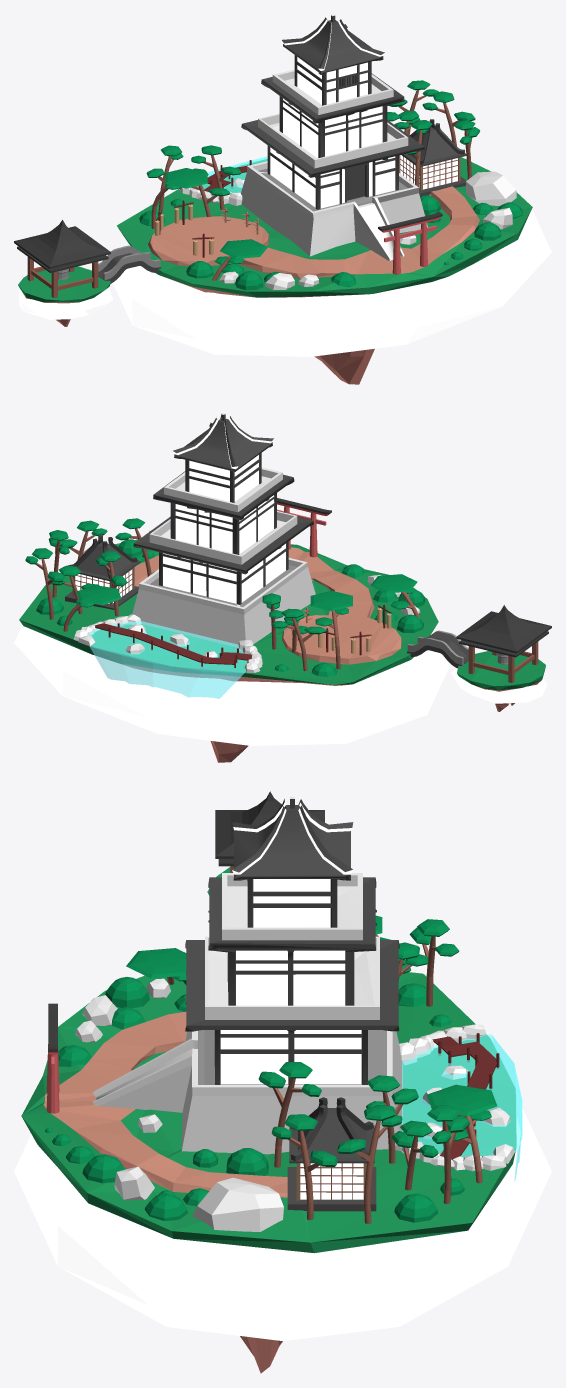
The picture shows the model from 3 angles, top to bottom: view 1: azimuth 30°, elevation 25°; view 2: azimuth 150°, elevation 25°; view 3: azimuth 270°, elevation 25°; orthographic projection. The views are drawn at different scales.
Parts seen in each view (by area): view 1: Temple, Clowds, Islands, Tree, TempleBell, Stone, Bush, House, Arch, Bridge, TraiainigSack, Water; view 2: Temple, Clowds, Islands, Tree, Water, TempleBell, Bush, House, Stone, WoodBridge, Bridge, Arch (+1 smaller); view 3: Temple, Clowds, Islands, Tree, Stone, Bush, House, Water, TempleBell, WoodBridge, Arch.
Part boxes in pixels (x1,y1,x2,y2): Temple: (241,14,427,260); Clowds: (19,201,551,356); Islands: (18,157,532,384); Tree: (146,80,479,280); TempleBell: (14,220,110,297); Stone: (179,171,516,290); Bush: (139,195,522,290); House: (399,119,466,196); Arch: (378,212,442,274); Bridge: (98,245,161,283); TraiainigSack: (155,200,214,257); Water: (197,156,267,192); Temple: (132,413,315,647); Clowds: (14,592,547,745); Islands: (19,539,545,762); Tree: (25,518,420,671); Water: (88,621,247,698); TempleBell: (456,605,551,682); Bush: (36,539,425,677); House: (65,534,140,609); Stone: (73,530,419,672); WoodBridge: (94,623,252,667); Bridge: (407,630,468,668); Arch: (277,498,331,557); Temple: (93,797,402,1154); Clowds: (14,1098,551,1340); Islands: (21,867,516,1373); Tree: (126,915,497,1223); Stone: (75,978,514,1231); Bush: (45,977,464,1222); House: (287,1097,376,1211); Water: (402,1034,522,1180); TempleBell: (215,791,324,872); WoodBridge: (432,1033,499,1159); Arch: (46,1003,59,1113).
Bounding box in the file's own units: 2.59 × 1.77 × 1.53.
